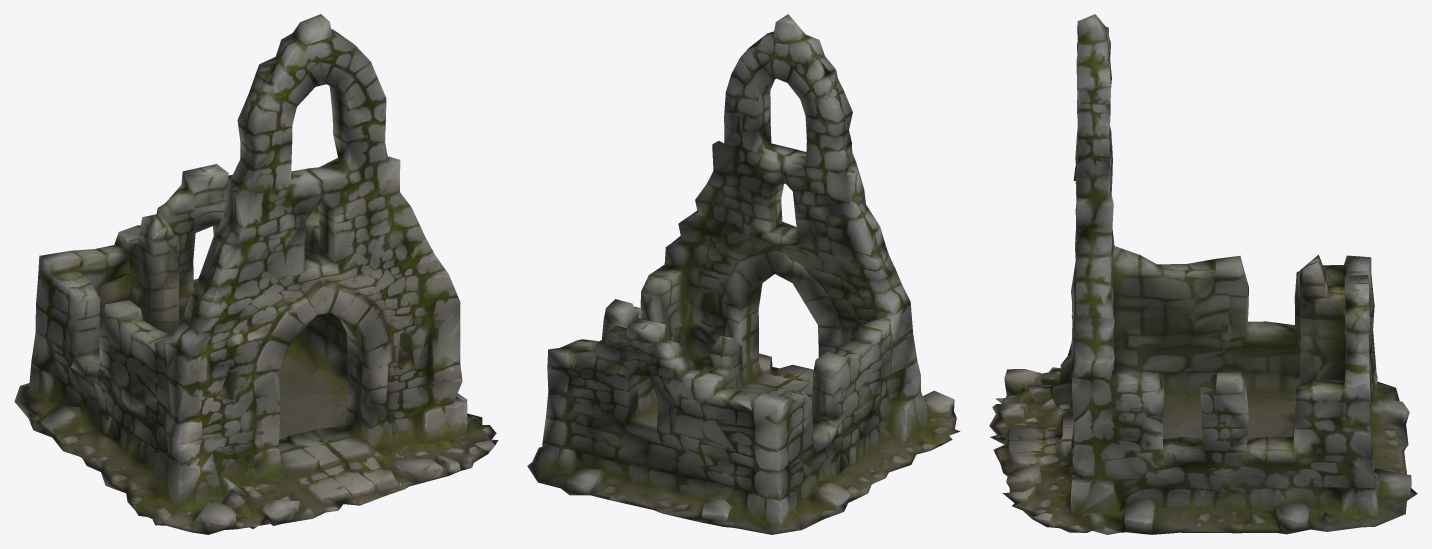
Rendered from land_church_tower_far.obj.
3 renders of one model, left to right at view 1: azimuth 30°, elevation 25°; view 2: azimuth 150°, elevation 25°; view 3: azimuth 270°, elevation 25°, orthographic. The views are drawn at different scales.
Visible parts, largest first — view 1: land_church_tower_far; view 2: land_church_tower_far; view 3: land_church_tower_far.
Part boxes in pixels (x1=…): land_church_tower_far: x1=14, y1=14, x2=498, y2=534; land_church_tower_far: x1=527, y1=14, x2=960, y2=534; land_church_tower_far: x1=989, y1=14, x2=1417, y2=534.
Size of the model in its own units: 5.84 by 6.99 by 6.23.
1 material, 1 textured.
